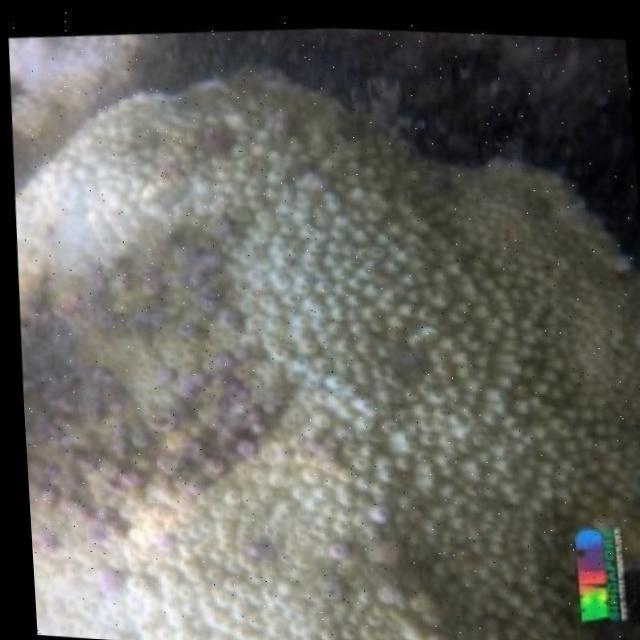Bleached Coral: (3, 57, 616, 640)
